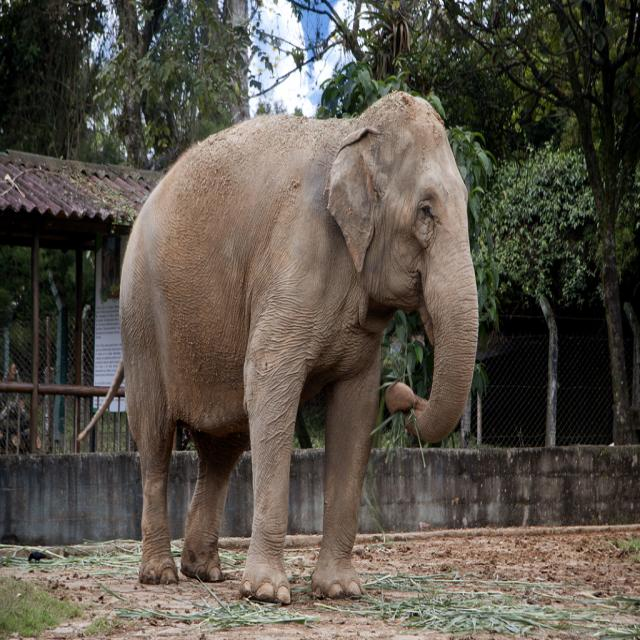Elephant: (108, 93, 486, 612)
